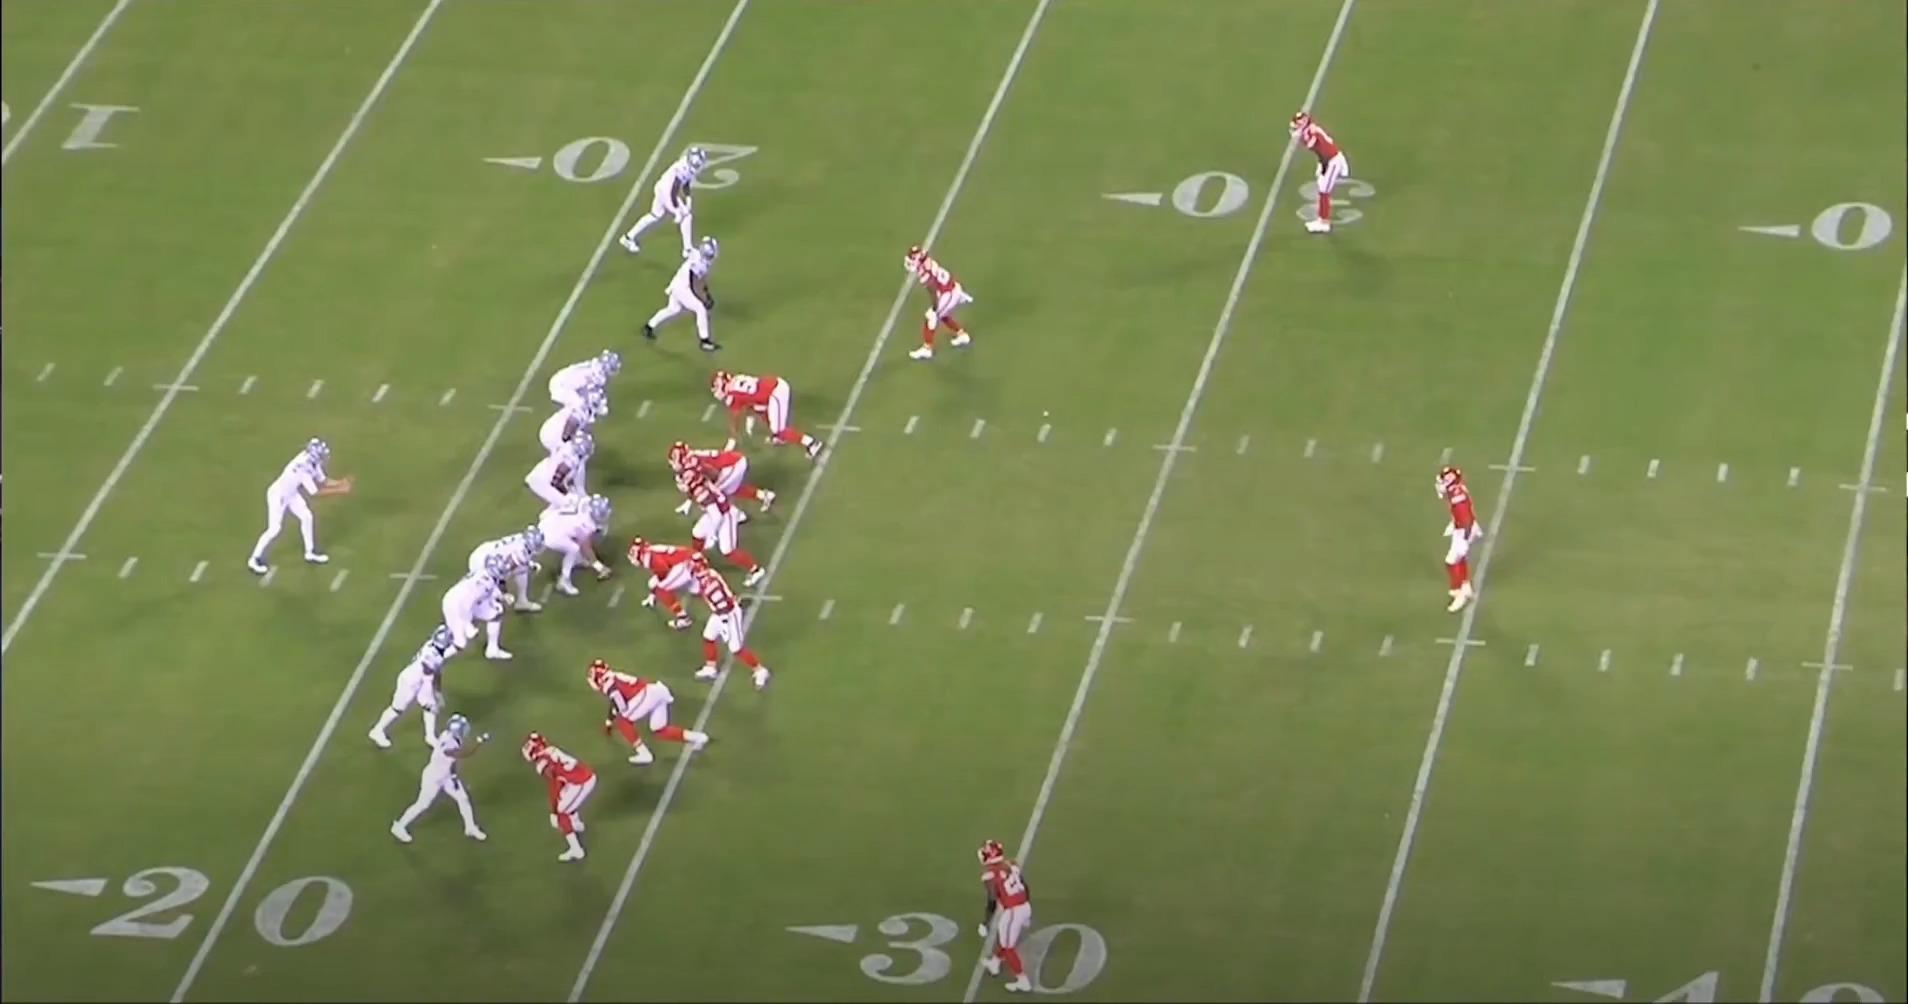defense: (591, 658, 717, 766), (690, 557, 780, 690), (683, 463, 776, 589), (516, 732, 596, 872), (707, 370, 827, 462), (974, 838, 1042, 995), (1427, 465, 1487, 622), (1291, 110, 1359, 243), (674, 439, 785, 518), (910, 243, 982, 365), (625, 539, 709, 633)
oline: (527, 496, 616, 605), (430, 557, 515, 668), (464, 528, 545, 634), (520, 438, 591, 522), (529, 394, 597, 455)
qb: (255, 428, 362, 579)
skill: (387, 709, 491, 850), (366, 621, 464, 756), (615, 139, 715, 261), (639, 235, 727, 354), (545, 351, 625, 419)
